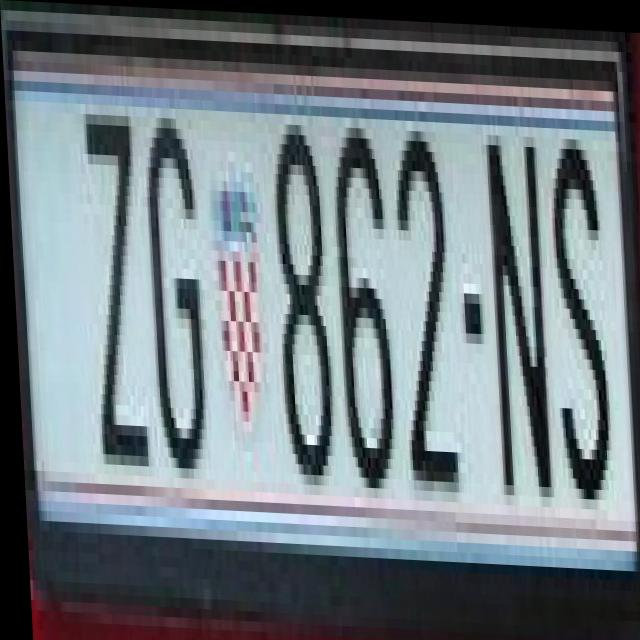2: (389, 116, 453, 468)
6: (330, 133, 394, 485)
8: (270, 141, 334, 473)
G: (142, 136, 204, 478)
N: (480, 149, 547, 491)
S: (544, 142, 612, 494)
Z: (76, 93, 149, 465)
